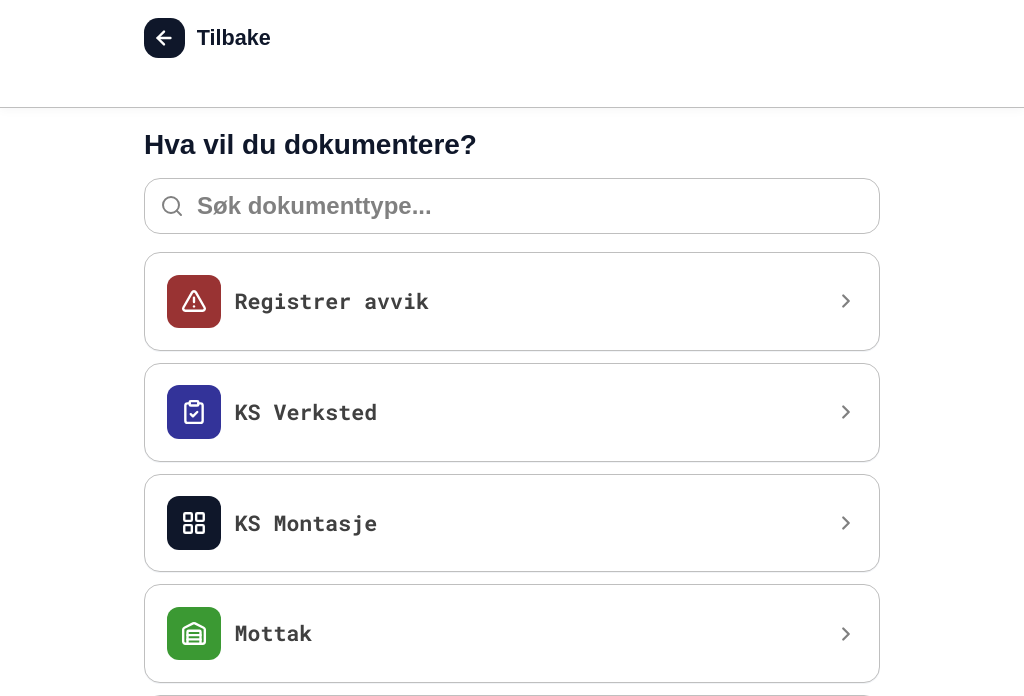
Scenario: NewDocumentScreen › filters document types based on search
The image size is (1024, 696).
Type "Glass" into the field with placeholder "Søk dokumenttype...".
click(512, 206); type("Glass")  # box [144,178,880,234]
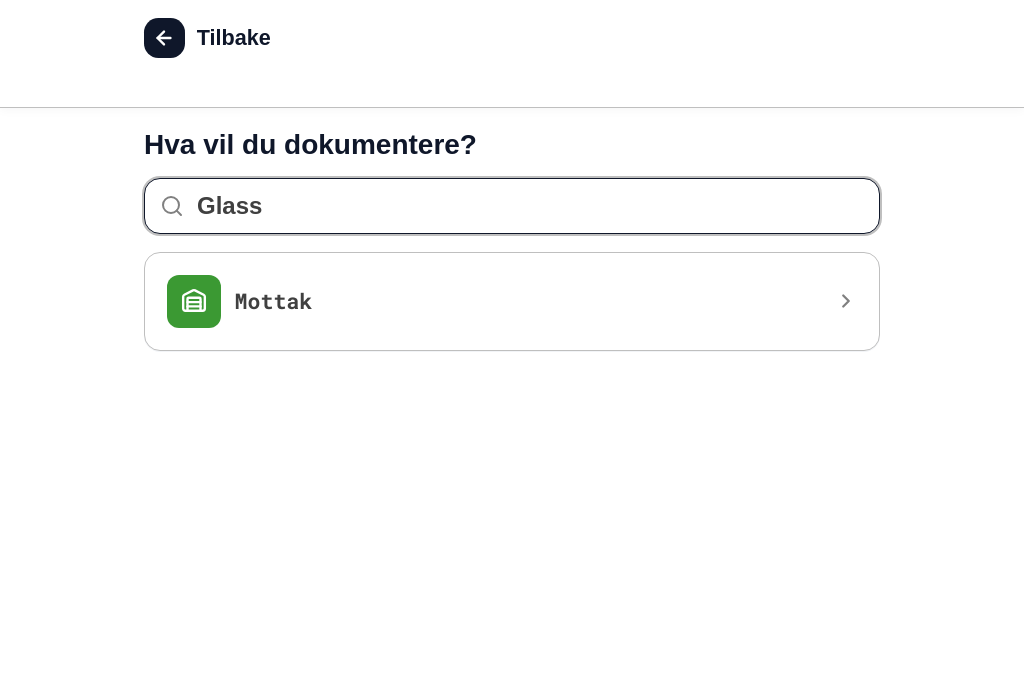
Expected: the button "Mottak" is shown, [144,252,880,351]
Now the button "KS Verksted" is gone
